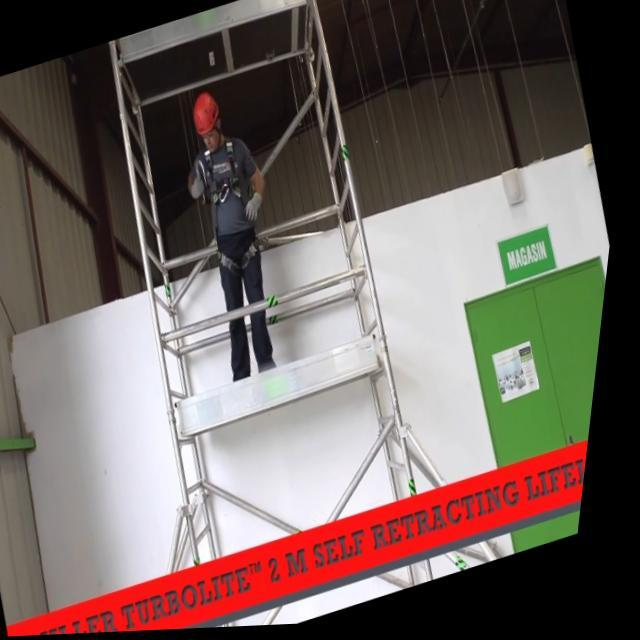belt: (184, 127, 286, 290)
